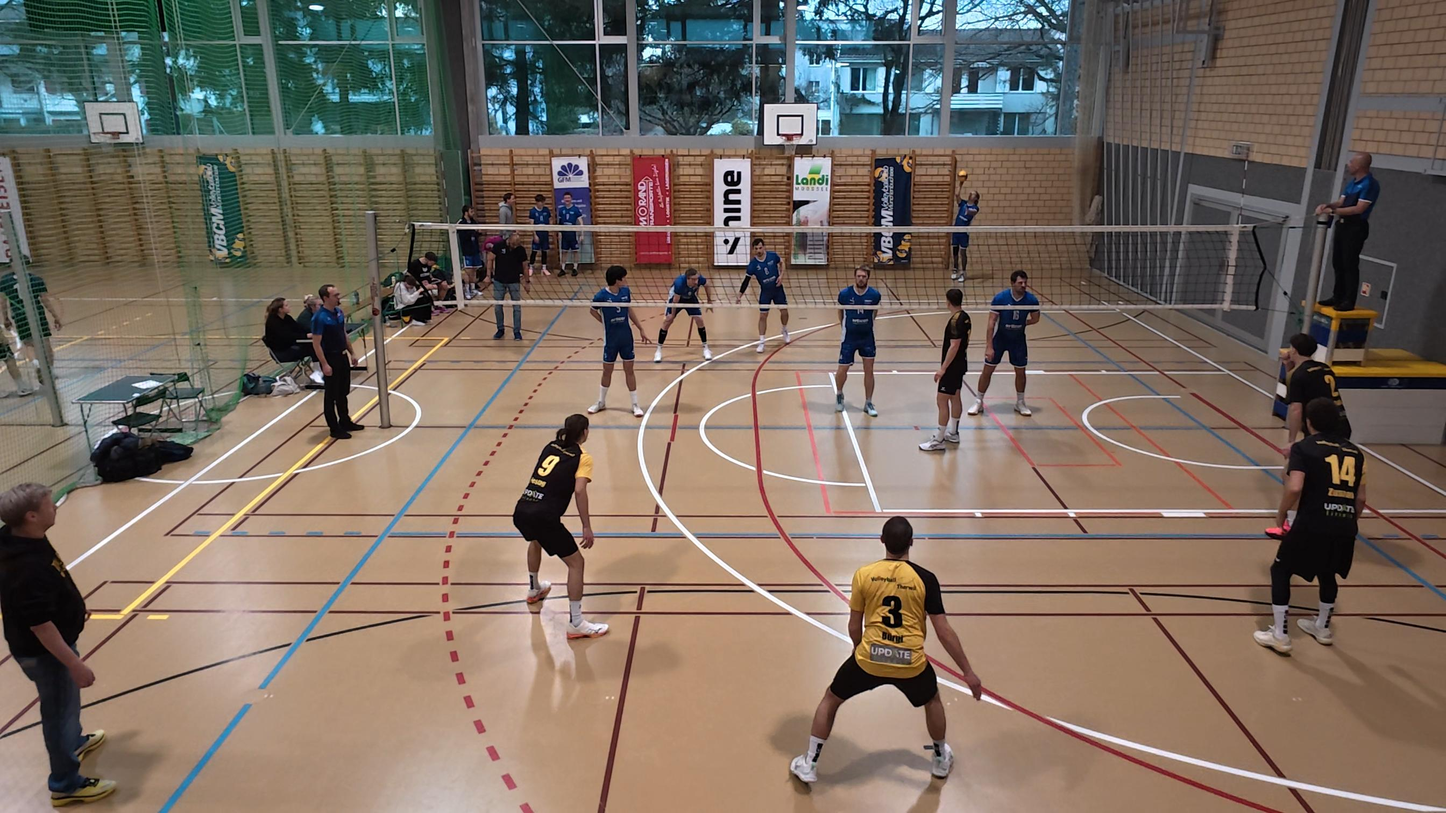Player: (790, 516, 984, 783), (1254, 400, 1365, 653), (513, 413, 606, 639), (1265, 333, 1345, 538), (968, 270, 1041, 416), (920, 289, 973, 452), (590, 265, 644, 416), (833, 266, 883, 416), (653, 264, 716, 362), (738, 238, 791, 351)
Serve: (942, 170, 984, 290)
ball: (955, 168, 969, 183)
